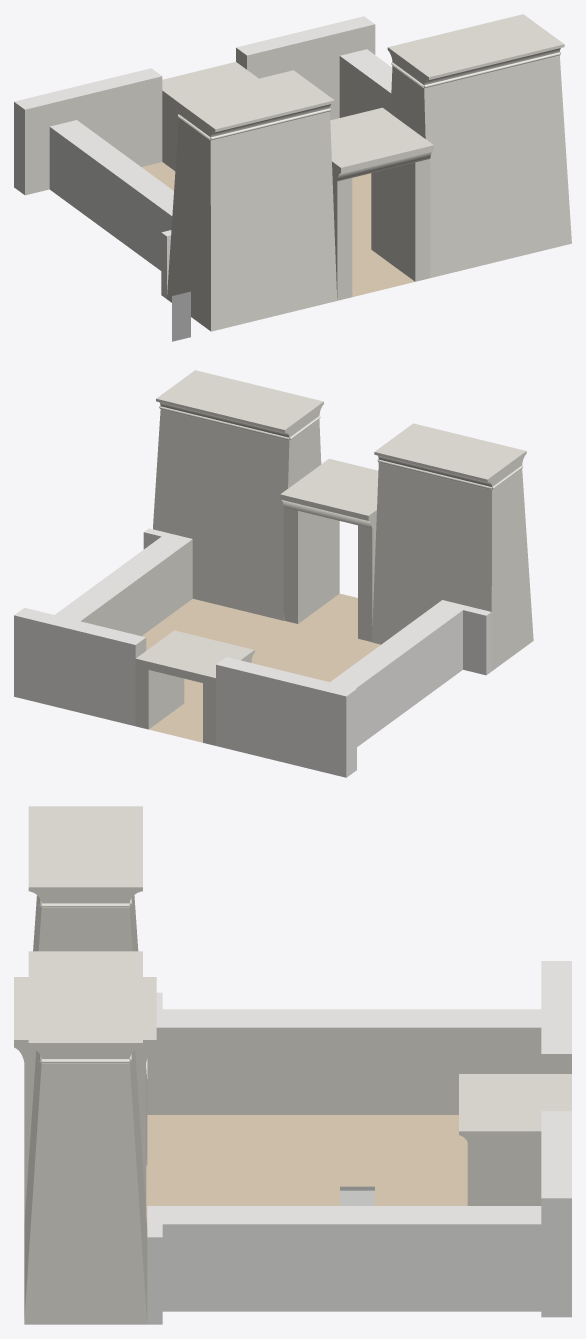
Rendered from Bakenrenef.glb.
3 renders of one model, top to bottom at view 1: azimuth 30°, elevation 25°; view 2: azimuth 150°, elevation 25°; view 3: azimuth 270°, elevation 25°, orthographic. The views are drawn at different scales.
Parts seen in each view (by area): view 1: Mesh4 Model, Mesh1 Component_1_1 Model, Mesh2 Component_2_1 Model, Mesh3 Component_2_2 Model, Mesh5 Model; view 2: Mesh4 Model, Mesh1 Component_1_1 Model, Mesh2 Component_2_1 Model, Mesh3 Component_2_2 Model; view 3: Mesh4 Model, Mesh2 Component_2_1 Model, Mesh3 Component_2_2 Model, Mesh1 Component_1_1 Model.
Part boxes in pixels (x1=…): Mesh4 Model: x1=14, y1=16, x2=571, y2=331; Mesh1 Component_1_1 Model: x1=330, y1=107, x2=433, y2=300; Mesh2 Component_2_1 Model: x1=387, y1=14, x2=564, y2=88; Mesh3 Component_2_2 Model: x1=174, y1=70, x2=334, y2=140; Mesh5 Model: x1=172, y1=291, x2=190, y2=341; Mesh4 Model: x1=14, y1=409, x2=533, y2=777; Mesh1 Component_1_1 Model: x1=280, y1=458, x2=378, y2=641; Mesh2 Component_2_1 Model: x1=156, y1=370, x2=323, y2=440; Mesh3 Component_2_2 Model: x1=374, y1=423, x2=526, y2=489; Mesh4 Model: x1=24, y1=895, x2=571, y2=1324; Mesh2 Component_2_1 Model: x1=28, y1=951, x2=142, y2=1063; Mesh3 Component_2_2 Model: x1=28, y1=806, x2=142, y2=907; Mesh1 Component_1_1 Model: x1=14, y1=977, x2=156, y2=1223.
Bounding box in the file's own units: 14.68 × 7.09 × 12.74.
